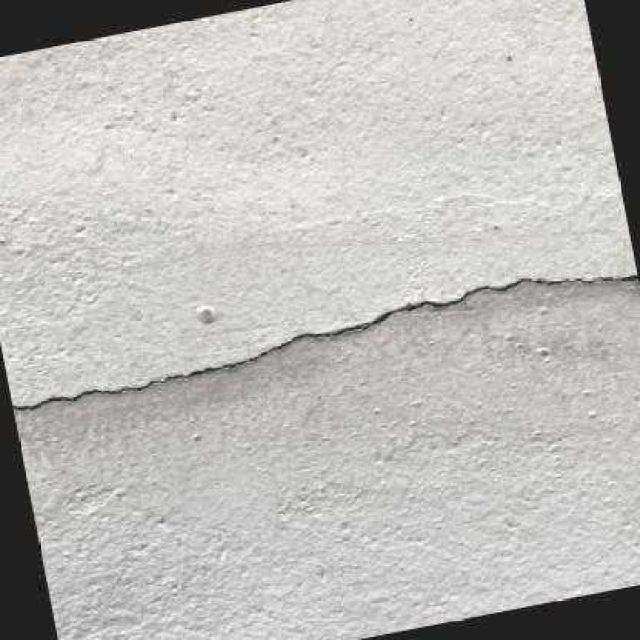D00: (10, 274, 638, 411)
